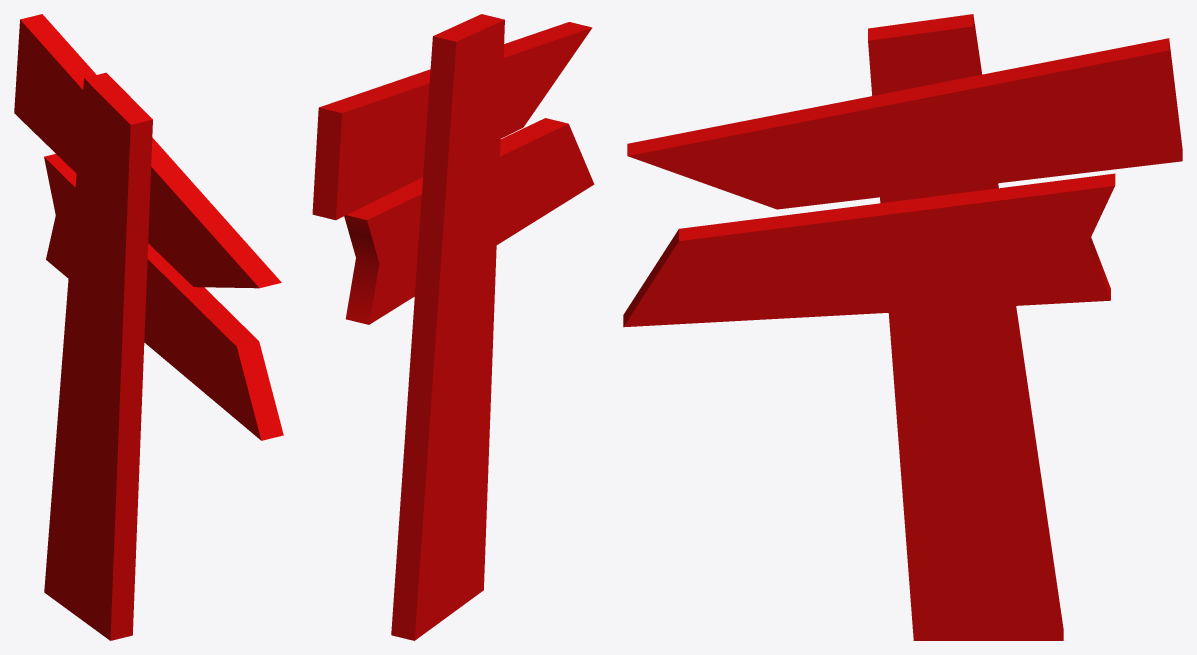
Rendered from outpost_warning_02.fbx.
The picture shows the model from 3 angles, left to right: view 1: azimuth 30°, elevation 25°; view 2: azimuth 150°, elevation 25°; view 3: azimuth 270°, elevation 25°; orthographic projection. The views are drawn at different scales.
Parts seen in each view (by area): view 1: warningsign_02; view 2: warningsign_02; view 3: warningsign_02.
Boxes of the visible parts, x1=… form: warningsign_02: x1=14, y1=14, x2=283, y2=640; warningsign_02: x1=312, y1=14, x2=594, y2=640; warningsign_02: x1=623, y1=14, x2=1182, y2=640.
Bounding box in the file's own units: 0.7001 × 8.09 × 6.67.
